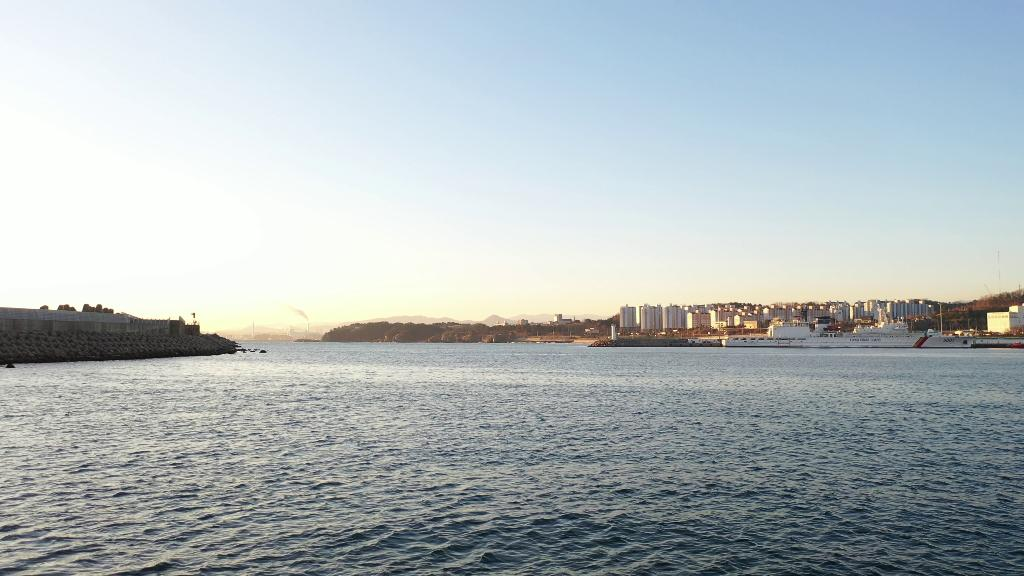Warship: (722, 306, 976, 348)
